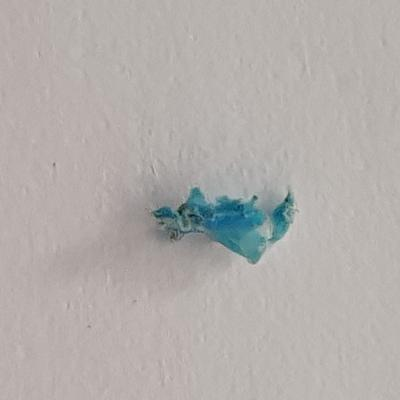plastic: (143, 180, 303, 269)
